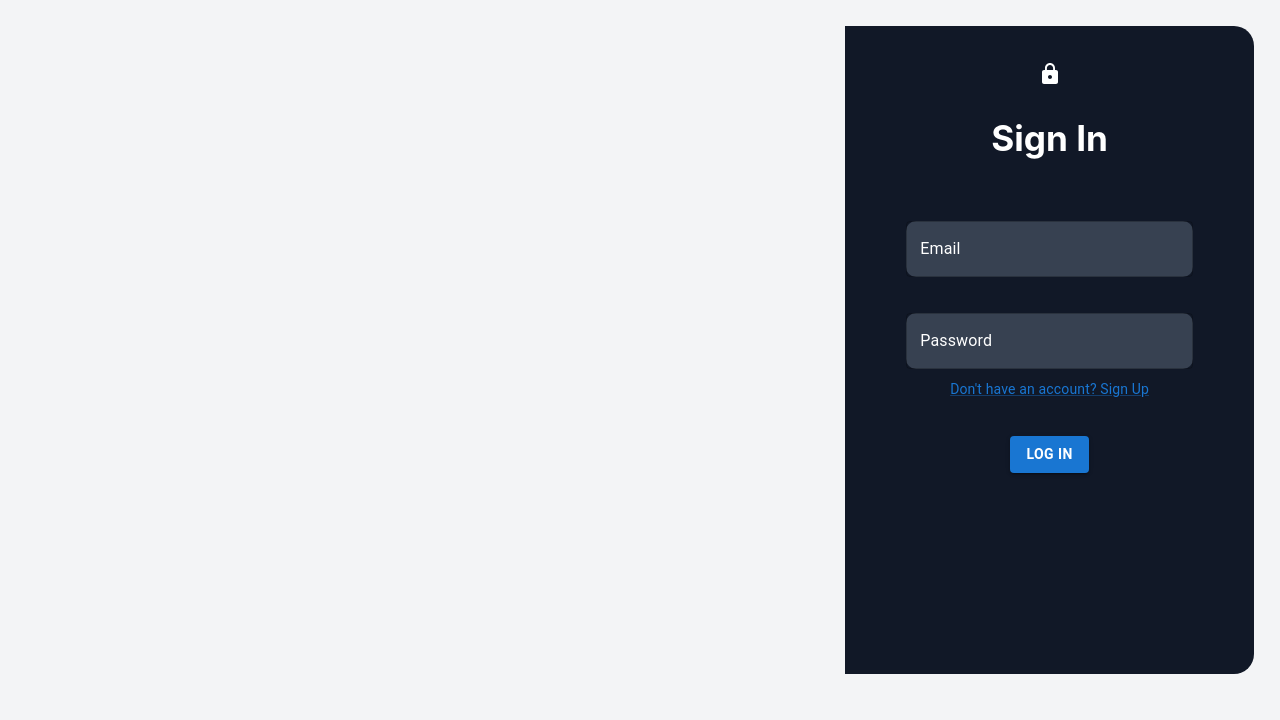
Scenario: SignIn Component › shows error message if fields are not filled
This screenshot has width=1280, height=720.
Click the button "Log In" at (1050, 455), box [1010, 436, 1089, 473]
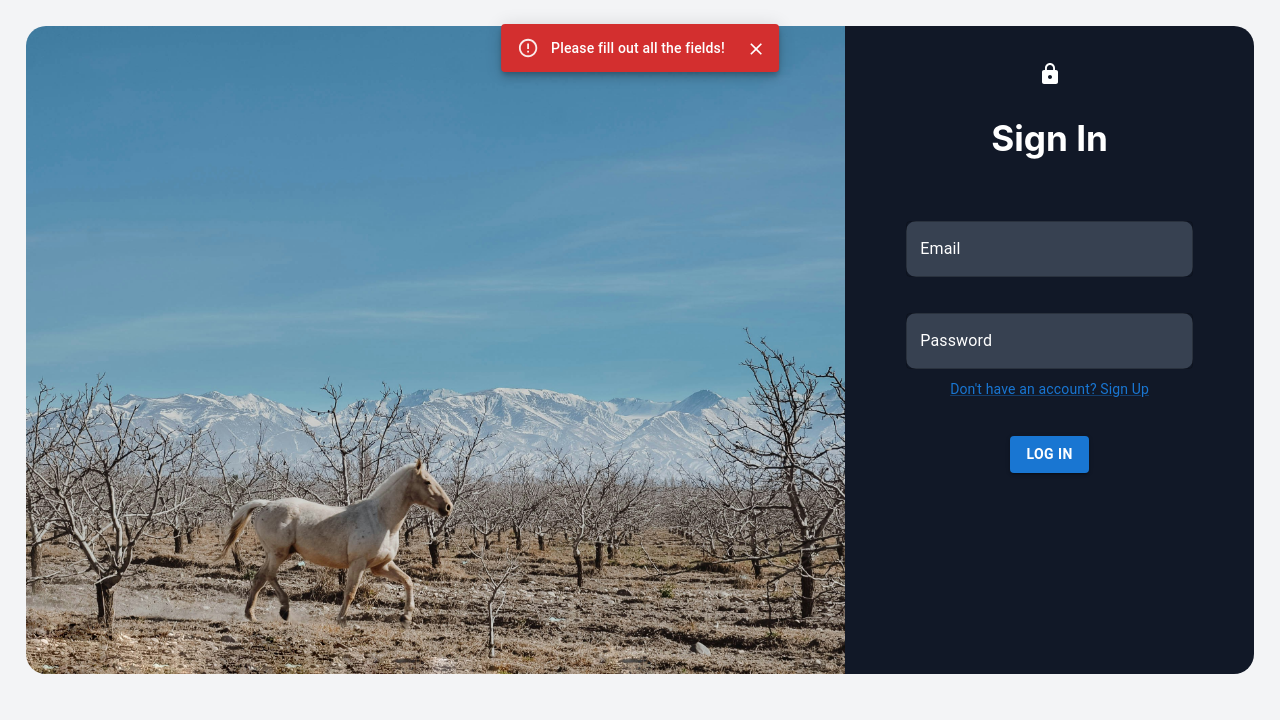
Expected: the text "Please fill out all the fields!" is shown, [551, 40, 725, 56]
